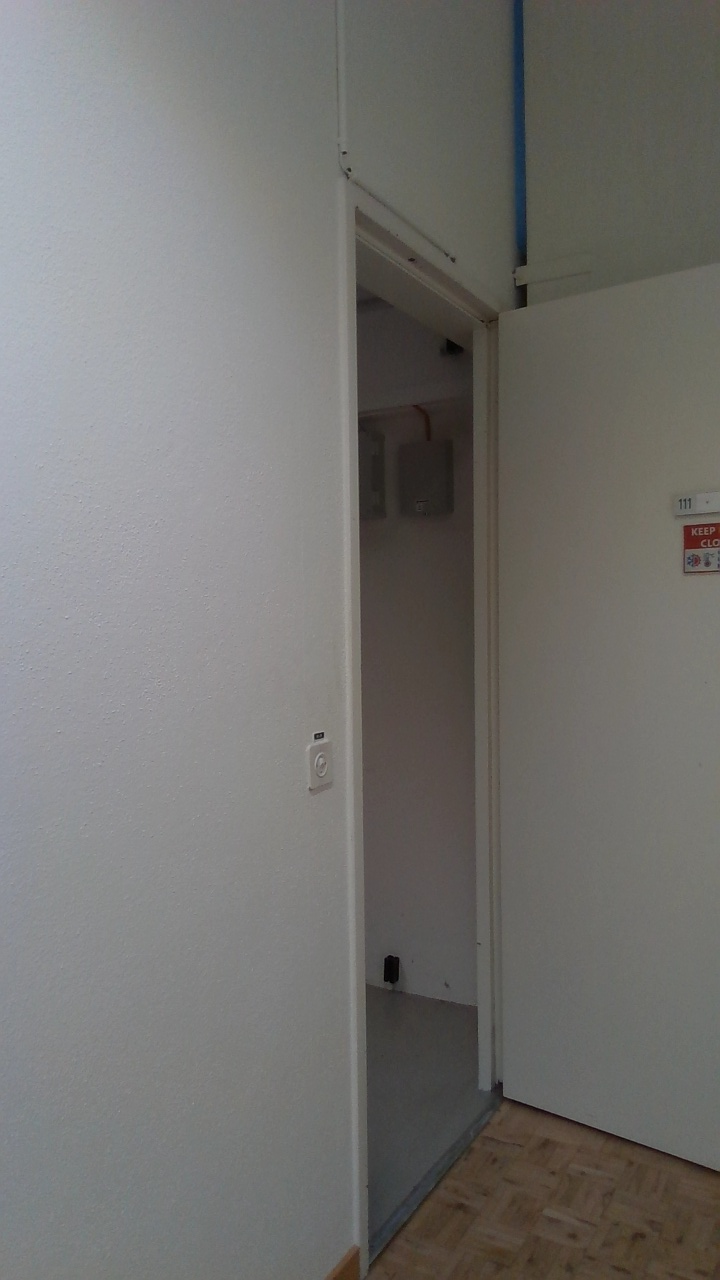Light_Switch: (303, 740, 337, 791)
